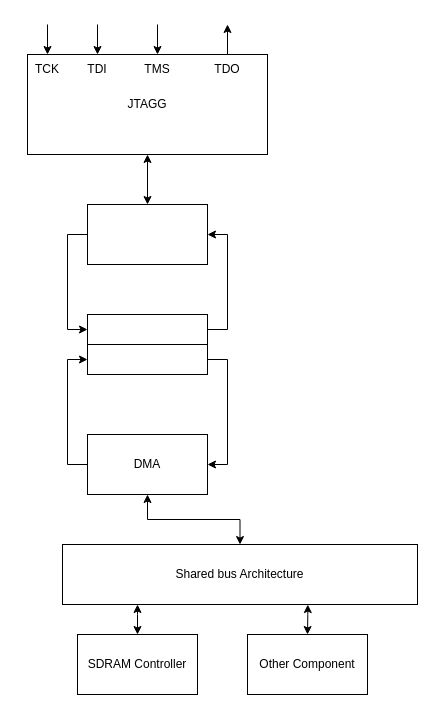
The diagram is 435 pixels wide and 712 high, and some of its shapes have lost their labels. Each missing label, with the box of its shape:
IP Core: (86, 204, 208, 264)
PingPong buffer 1KB 1KB: (86, 314, 208, 374)
